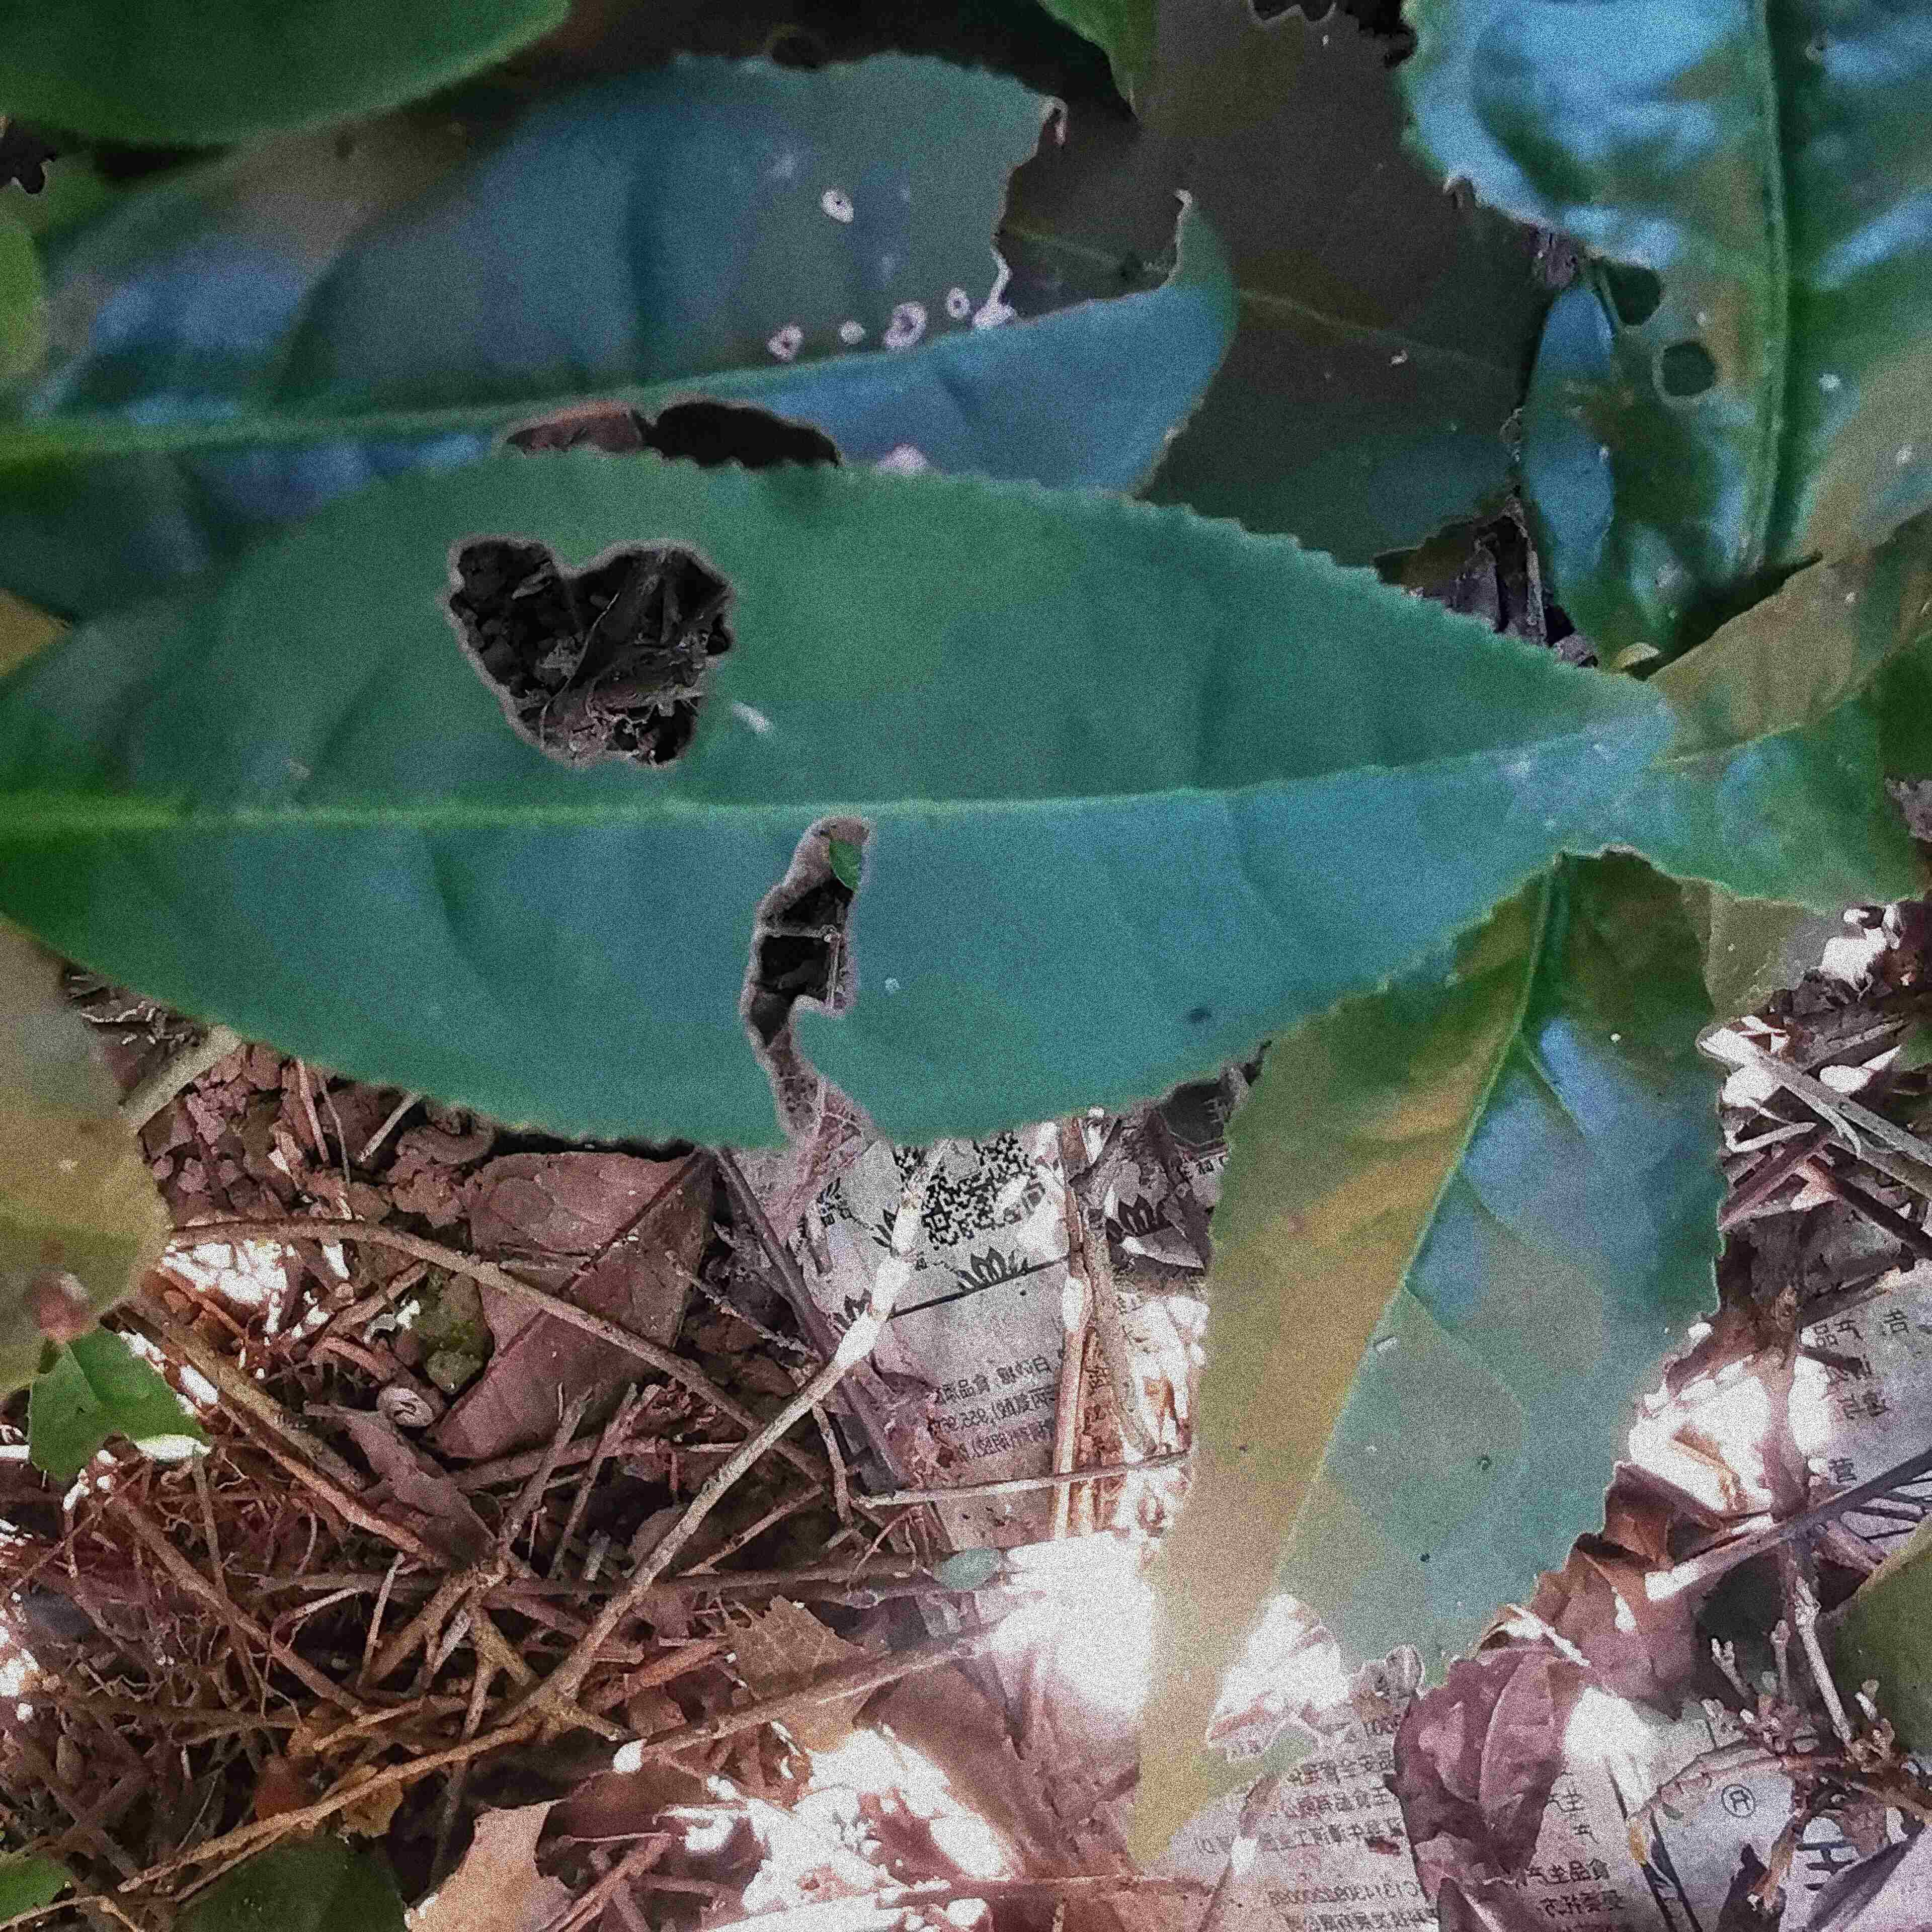chihuo_high: (4, 441, 1674, 1152), (4, 48, 1253, 628), (1129, 851, 1741, 1874), (1394, 5, 1928, 676)
